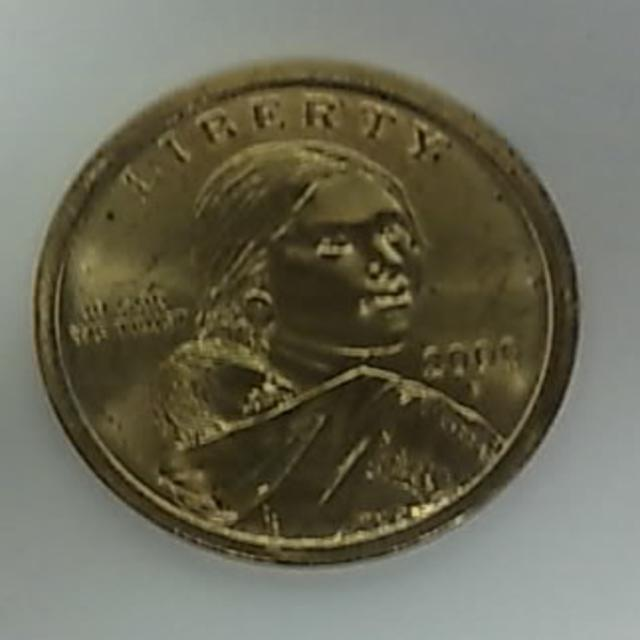Coin: (38, 59, 581, 564)
